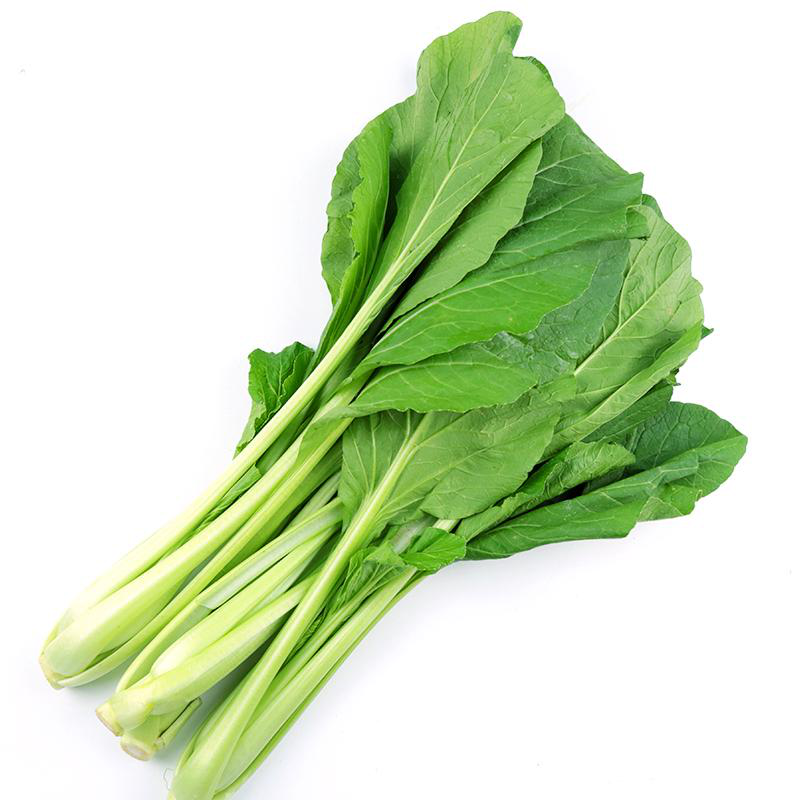Sawi: (34, 8, 766, 800)
